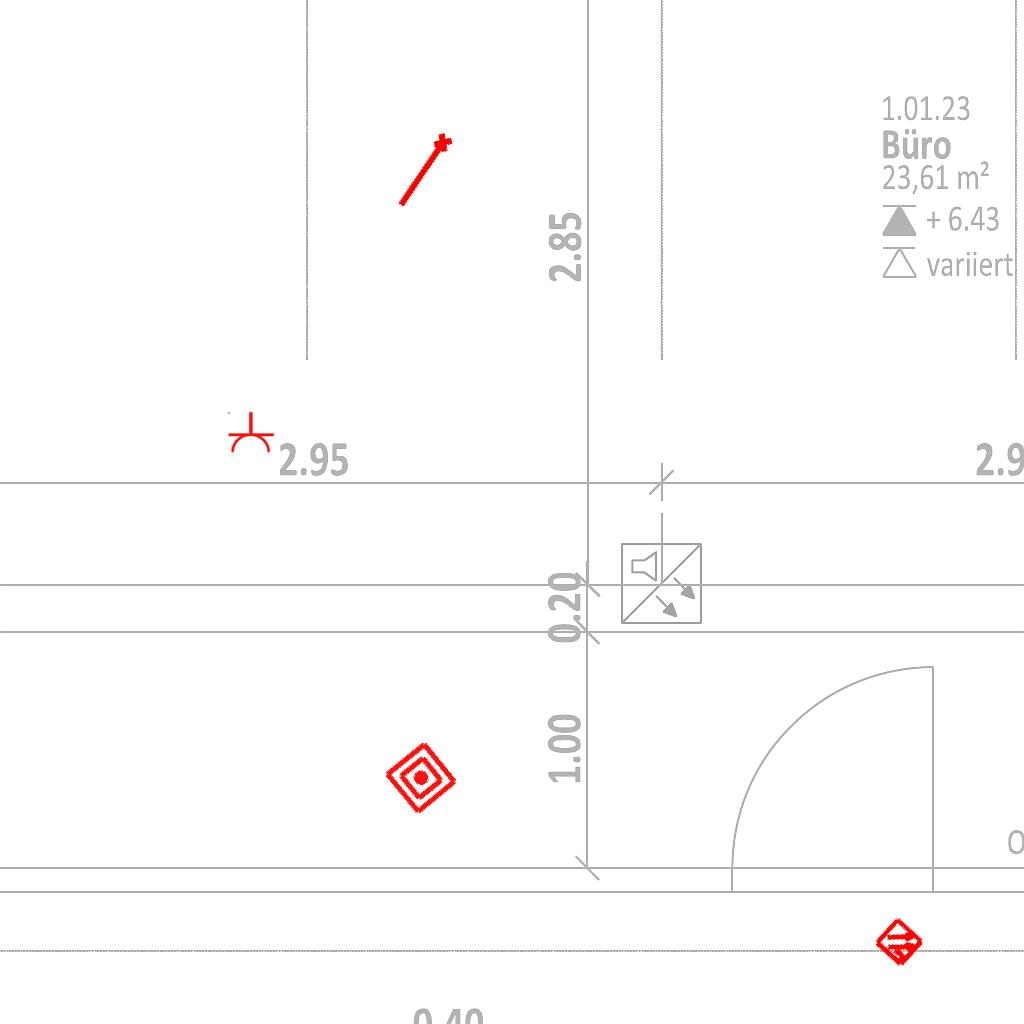ASR_Ansaugoeffnung: (390, 128, 460, 215)
NAM-Nichtautomatischer_Melder: (381, 738, 461, 818)
OT_Multisensormelder_(Kombination_RMO_WMD): (860, 903, 940, 983)
Schukosteckdose_einfach: (225, 411, 275, 454)
